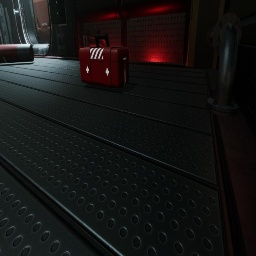FirstAidBox ,: (79, 34, 129, 89)
NitrogenTank ,: (0, 44, 34, 64)
